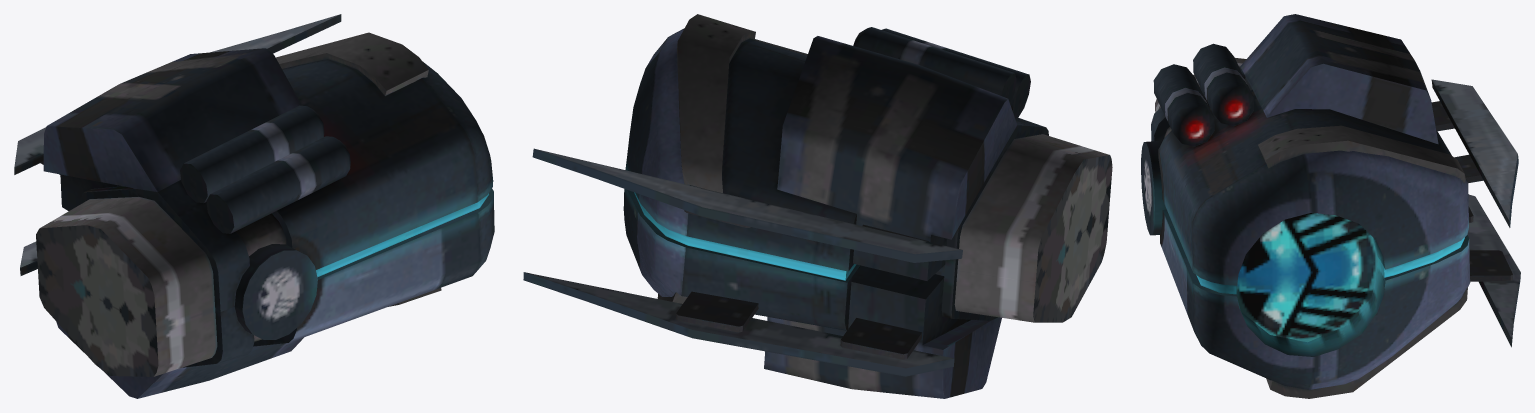
Rendered from shield_med_stun_baton.glb.
The picture shows the model from 3 angles, left to right: view 1: azimuth 30°, elevation 25°; view 2: azimuth 150°, elevation 25°; view 3: azimuth 270°, elevation 25°; orthographic projection. The views are drawn at different scales.
Visible parts, largest first — view 1: weapons/shield_med_stun_baton_0; view 2: weapons/shield_med_stun_baton_0; view 3: weapons/shield_med_stun_baton_0.
Boxes of the visible parts, x1,y1,x2,y2 form: weapons/shield_med_stun_baton_0: (14, 14, 494, 398); weapons/shield_med_stun_baton_0: (523, 14, 1112, 398); weapons/shield_med_stun_baton_0: (1141, 14, 1520, 398).
Bounding box in the file's own units: 2 × 1.47 × 1.66.
Materials: 1 (1 with a texture image).
